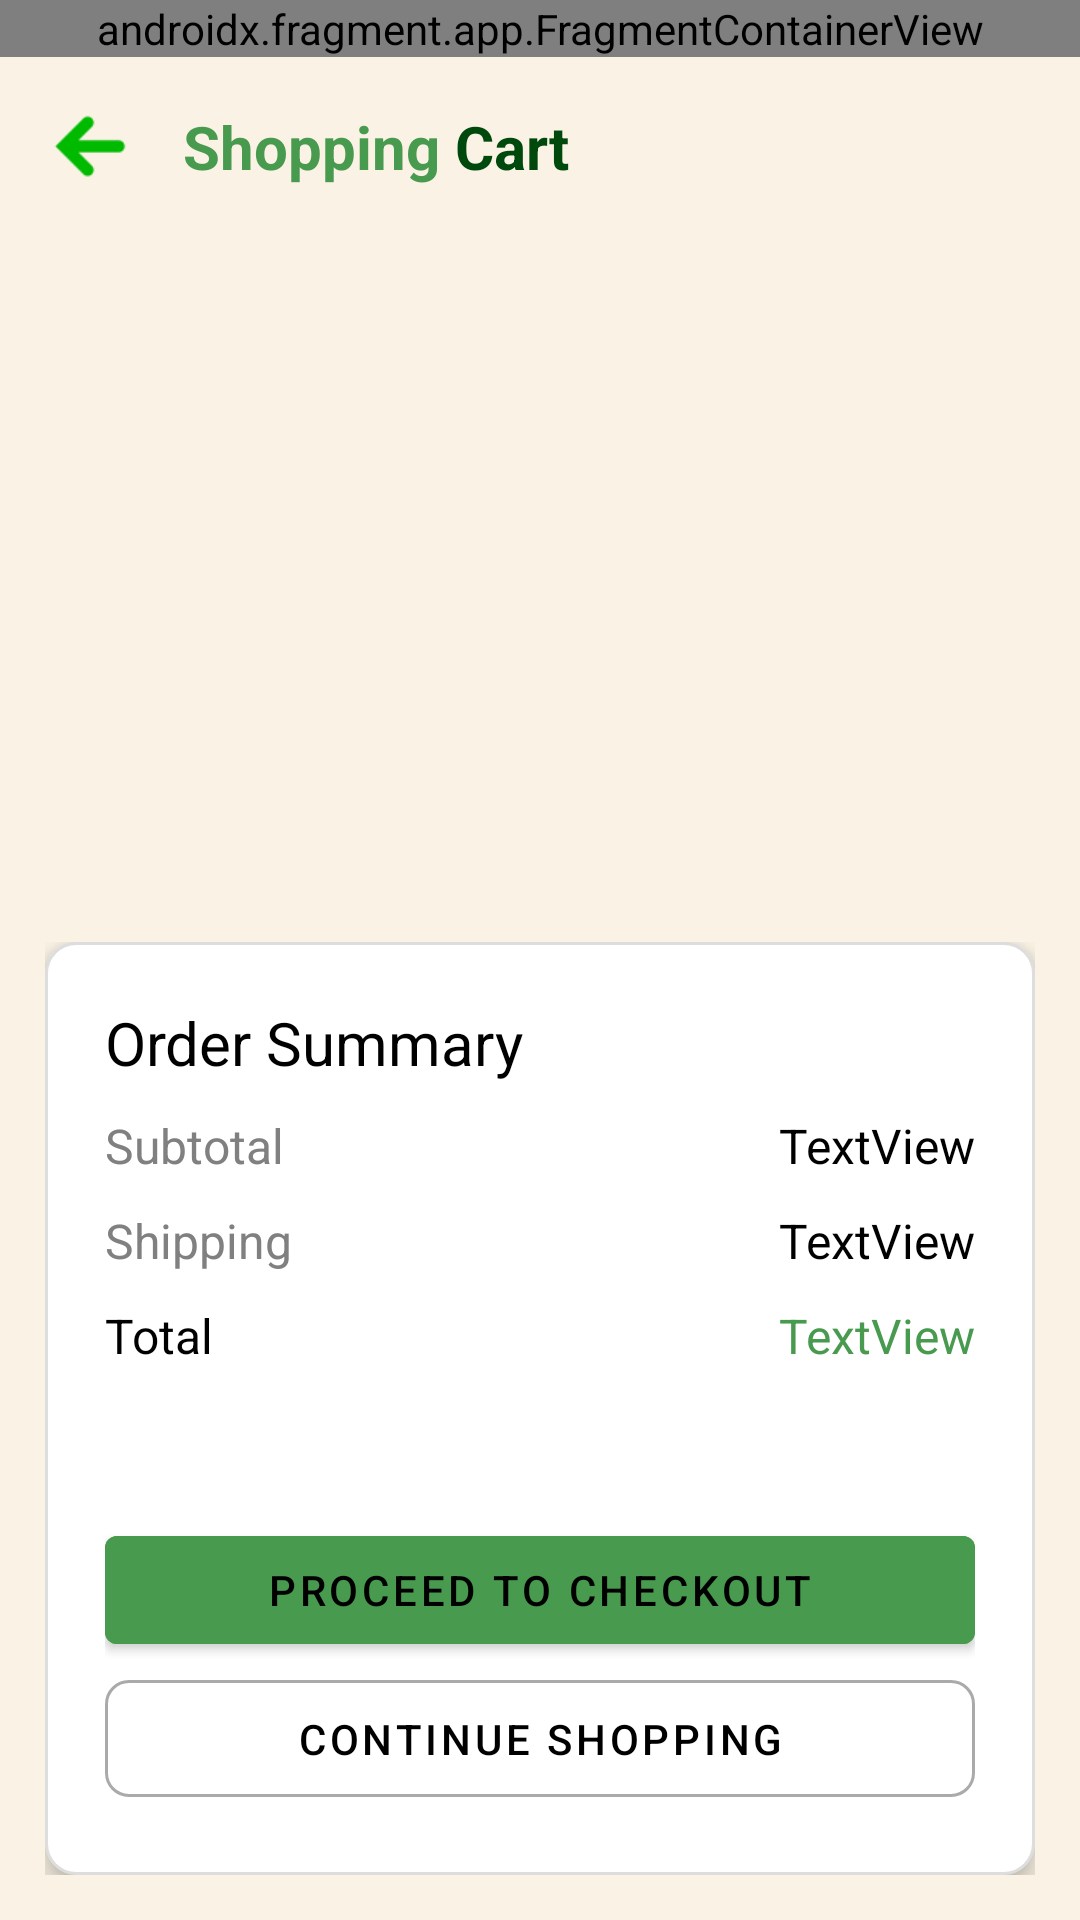

Point at icon controls on the screen. Image size 1080x1920, points as (x,y).
back to marketplace arrow: (90,146)
